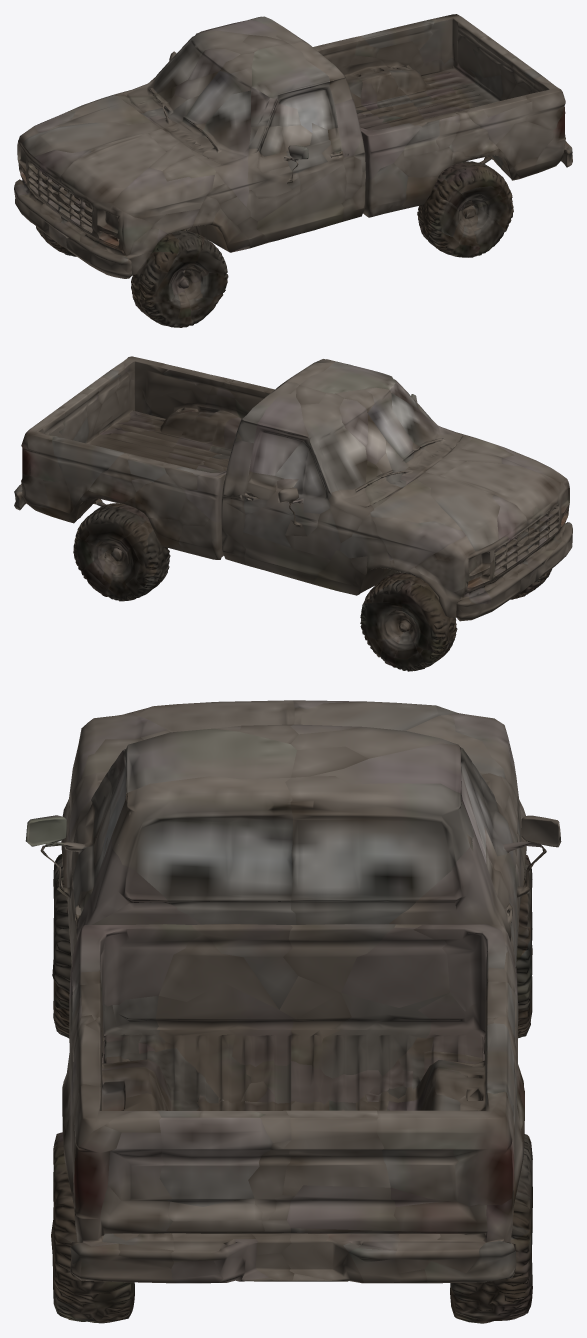
File: car_pickup_light_q2.glb
3 views of the same model, one above another, from view 1: azimuth 30°, elevation 25°; view 2: azimuth 150°, elevation 25°; view 3: azimuth 270°, elevation 25° (orthographic). The views are drawn at different scales.
Size of the model in its own units: 5.26 by 2.2 by 2.6.
1 material, 1 textured.
